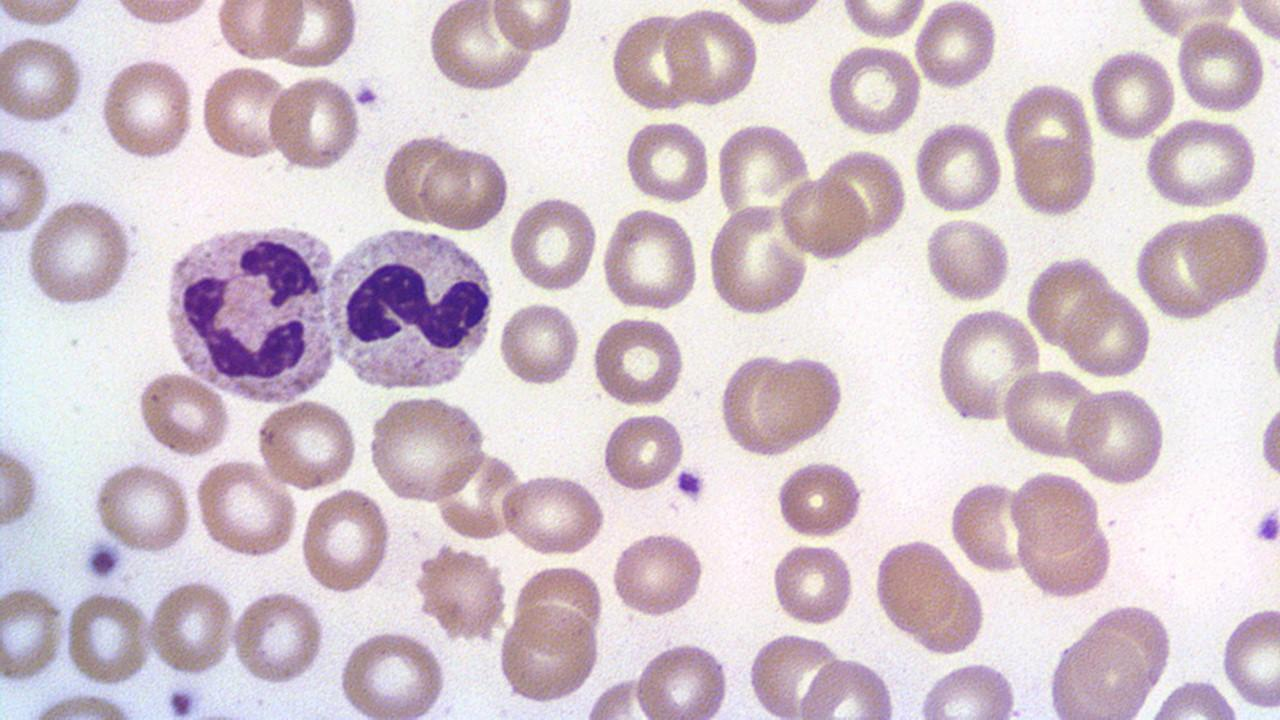Platelets: (672, 464, 707, 503), (1252, 506, 1280, 546), (352, 80, 382, 109)
RBC: (367, 391, 487, 506), (25, 195, 140, 310), (932, 305, 1042, 424), (705, 202, 811, 318), (599, 204, 700, 314), (1142, 116, 1260, 210), (495, 602, 601, 706), (96, 55, 196, 164), (192, 459, 300, 559), (1067, 383, 1169, 487), (713, 120, 813, 226), (336, 626, 450, 718), (298, 484, 392, 595), (426, 0, 535, 95), (254, 396, 361, 492), (266, 72, 364, 174), (662, 6, 760, 107), (1000, 366, 1102, 463), (91, 459, 194, 555), (1134, 216, 1226, 323), (824, 41, 924, 139), (229, 588, 325, 687), (498, 470, 607, 557), (609, 9, 699, 114), (589, 314, 687, 410), (197, 63, 290, 164), (145, 576, 237, 678), (1046, 630, 1152, 718), (507, 192, 598, 294), (752, 352, 846, 450), (746, 628, 846, 720), (132, 368, 234, 458), (1174, 19, 1268, 116), (608, 528, 706, 620), (64, 588, 154, 688), (872, 536, 960, 638), (433, 448, 526, 542), (913, 119, 1004, 215), (1087, 44, 1177, 141), (1060, 286, 1152, 380), (419, 141, 511, 235), (1008, 467, 1104, 557), (1183, 207, 1273, 303), (416, 546, 507, 640), (717, 351, 798, 456), (1024, 254, 1112, 350), (947, 476, 1032, 573), (912, 0, 1000, 93), (776, 175, 870, 262), (631, 638, 733, 718), (921, 214, 1011, 303), (495, 298, 583, 389), (0, 32, 85, 126), (623, 116, 712, 205), (381, 130, 462, 226), (772, 458, 866, 540), (768, 540, 855, 628), (1010, 133, 1098, 218), (601, 409, 686, 494), (1217, 599, 1279, 711), (0, 584, 68, 684), (270, 0, 361, 72), (794, 654, 896, 718), (915, 658, 1019, 718), (214, 2, 304, 64), (0, 141, 53, 238), (489, 1, 576, 55), (0, 436, 42, 534), (106, 0, 218, 30), (726, 0, 830, 27), (0, 0, 90, 28), (1255, 392, 1279, 492), (1230, 1, 1280, 44)
WBC: (159, 214, 343, 404), (322, 222, 498, 394)
